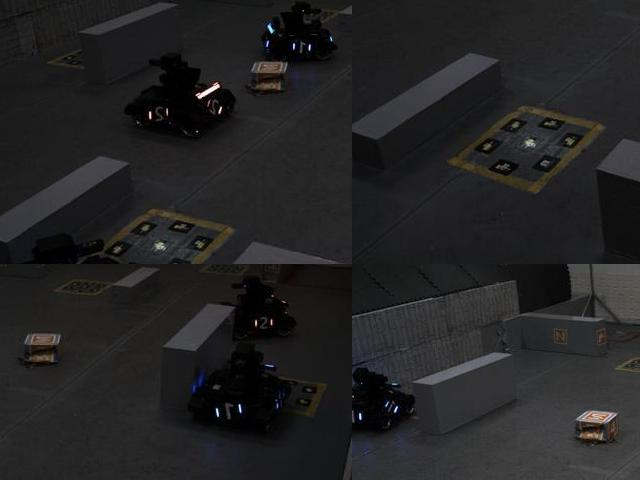armor: (210, 399, 248, 424), (145, 101, 174, 127), (248, 312, 278, 333), (289, 35, 316, 58), (202, 98, 228, 118), (383, 397, 407, 417), (352, 404, 366, 428)
